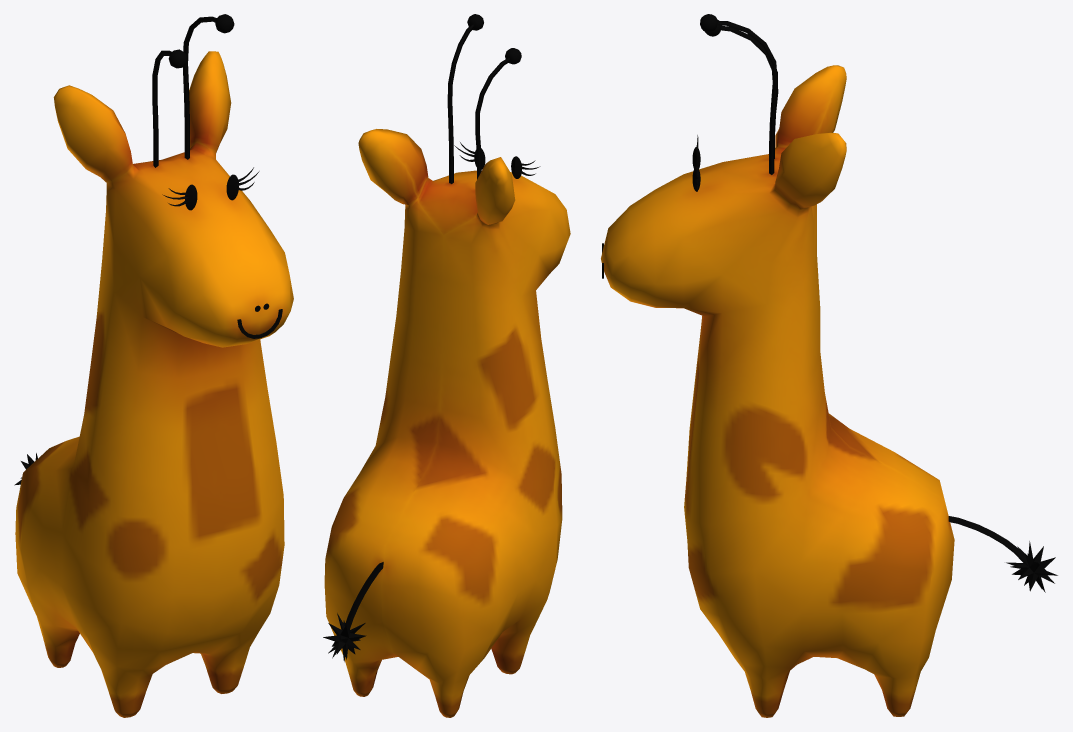
Rendered from Giraffe.fbx.
3 renders of one model, left to right at view 1: azimuth 30°, elevation 25°; view 2: azimuth 150°, elevation 25°; view 3: azimuth 270°, elevation 25°, orthographic. The views are drawn at different scales.
Visible parts, largest first — view 1: polySurface9; view 2: polySurface9; view 3: polySurface9.
Part boxes in pixels (<box>): polySurface9: <box>14,14,293,717</box>; polySurface9: <box>323,14,570,717</box>; polySurface9: <box>601,14,1057,717</box>.
Bounding box in the file's own units: 5.99 × 20.72 × 12.59.
1 material, 1 textured.
